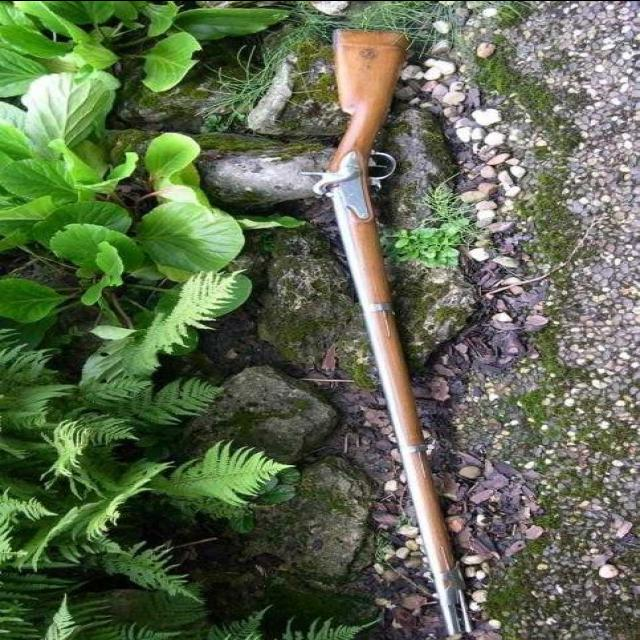heavyweapon: (298, 20, 490, 639)
